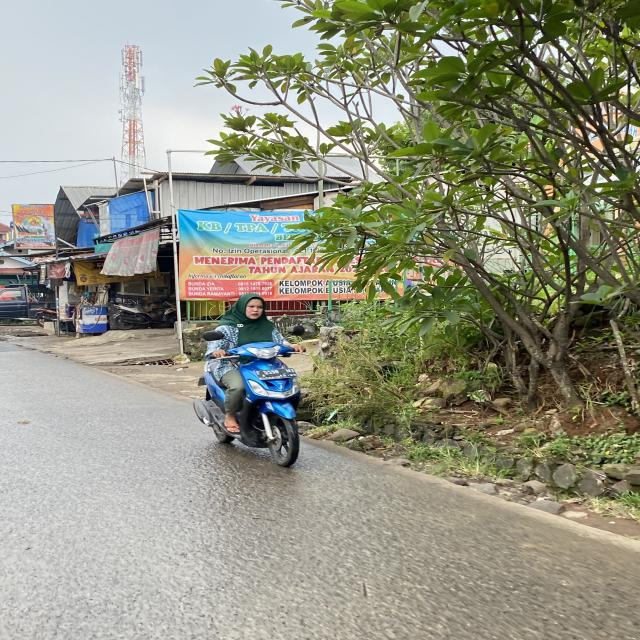Number Plate: (255, 367, 295, 379)
Rearview Mirror: (202, 329, 224, 341), (290, 325, 305, 335)
